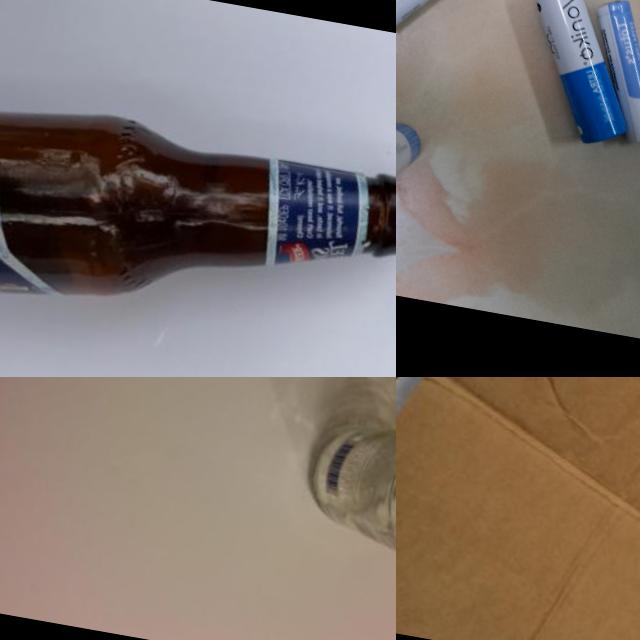bateria: (508, 0, 640, 150), (572, 0, 640, 147), (396, 0, 501, 44), (396, 113, 425, 208)
garrafa de vidro: (0, 84, 396, 376), (294, 410, 396, 590)
papelão: (396, 377, 640, 640)
